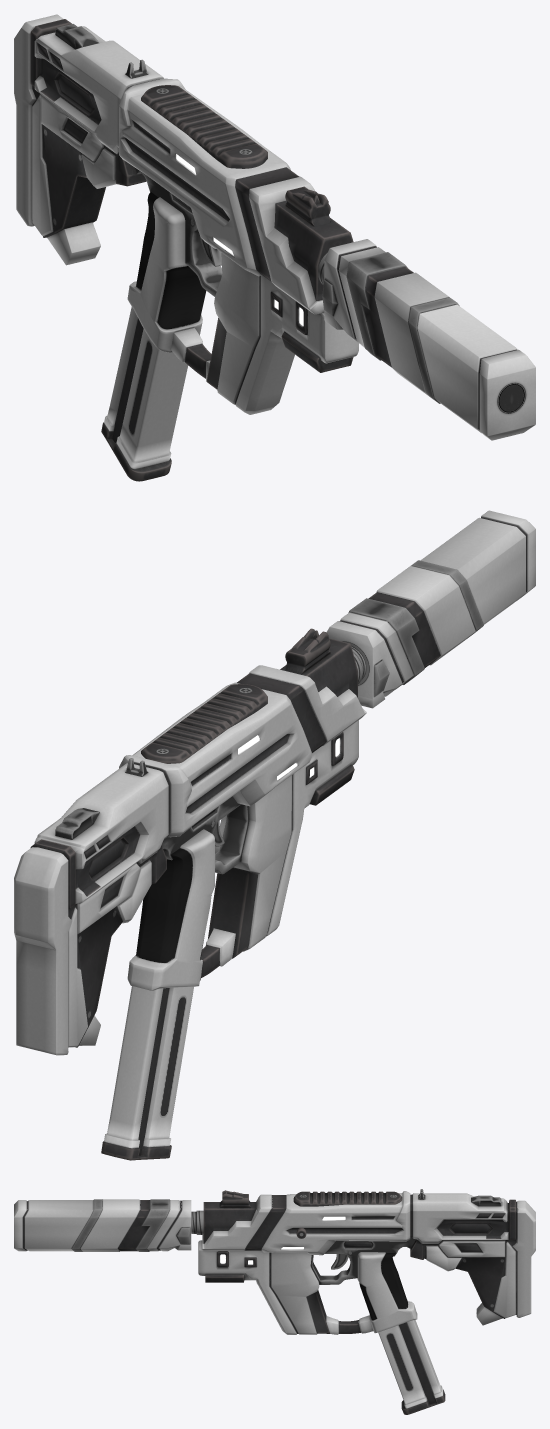
The model's file is SciFiSMG02_1.FBX.
3 renders of one model, top to bottom at view 1: azimuth 30°, elevation 25°; view 2: azimuth 150°, elevation 25°; view 3: azimuth 270°, elevation 25°, orthographic. The views are drawn at different scales.
Parts seen in each view (by area): view 1: SciFiSMG02_1; view 2: SciFiSMG02_1; view 3: SciFiSMG02_1.
Boxes of the visible parts, bbox=[...] form: SciFiSMG02_1: bbox=[14, 14, 535, 481]; SciFiSMG02_1: bbox=[14, 510, 535, 1160]; SciFiSMG02_1: bbox=[14, 1189, 535, 1414].
Size of what is drawn, in the model's own units: 0.0576 by 0.291 by 0.6249.
